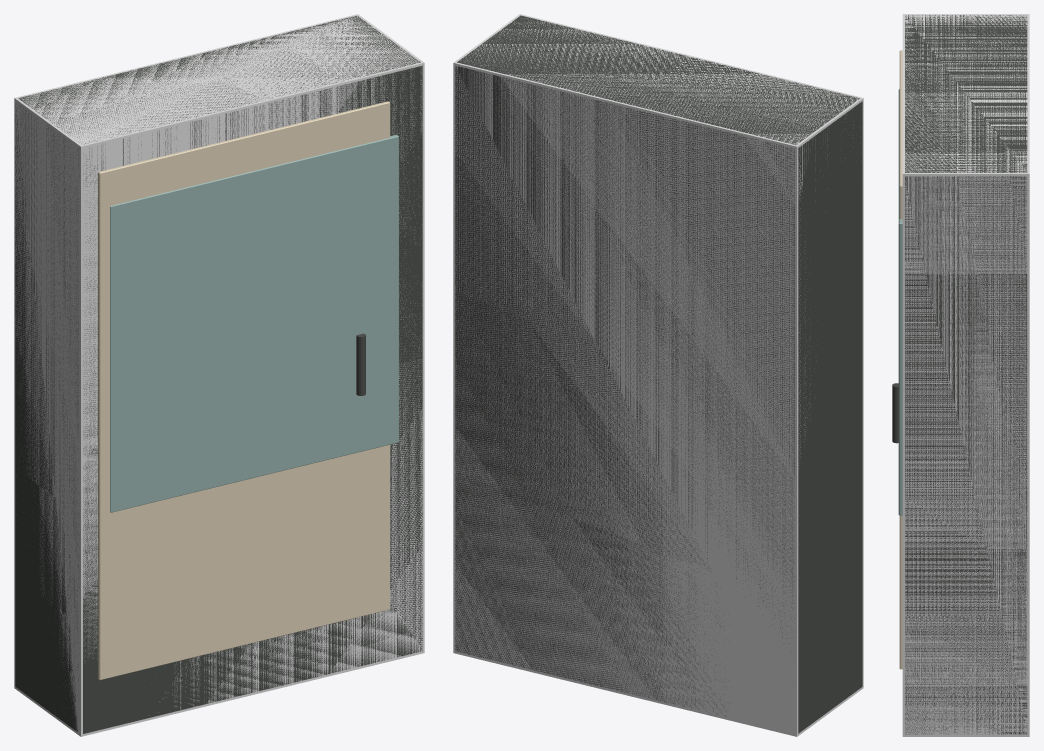
File: trophy-case_basic.glb
3 renders of one model, left to right at view 1: azimuth 30°, elevation 25°; view 2: azimuth 150°, elevation 25°; view 3: azimuth 270°, elevation 25°, orthographic. The views are drawn at different scales.
Visible parts, largest first — view 1: MESH_DisplayGlass, COL_trophy-case, MESH_CabinetCarcass, MESH_Door_01; view 2: COL_trophy-case, MESH_CabinetCarcass; view 3: COL_trophy-case, MESH_CabinetCarcass, MESH_DisplayGlass, MESH_Door_01, MESH_Handle.
Part boxes in pixels (bbox=[...]): MESH_DisplayGlass: bbox=[110, 134, 398, 512]; COL_trophy-case: bbox=[14, 14, 424, 736]; MESH_CabinetCarcass: bbox=[15, 16, 422, 733]; MESH_Door_01: bbox=[98, 101, 390, 680]; COL_trophy-case: bbox=[453, 14, 863, 736]; MESH_CabinetCarcass: bbox=[455, 15, 862, 733]; COL_trophy-case: bbox=[902, 14, 1029, 736]; MESH_CabinetCarcass: bbox=[905, 15, 1027, 734]; MESH_DisplayGlass: bbox=[898, 89, 902, 515]; MESH_Door_01: bbox=[899, 50, 902, 669]; MESH_Handle: bbox=[892, 383, 898, 443].
Size of the model in its own units: 1.25 by 2.05 by 0.4539.
